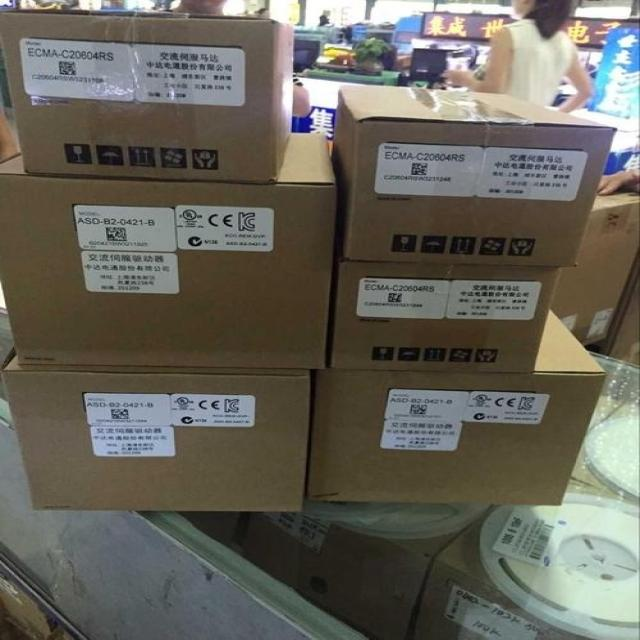box: (0, 132, 338, 370), (313, 308, 610, 506), (409, 400, 639, 637), (0, 346, 312, 512), (331, 89, 619, 267), (2, 11, 296, 181), (236, 497, 491, 639), (331, 259, 563, 373), (552, 182, 638, 342), (609, 259, 639, 367), (181, 512, 250, 550)
